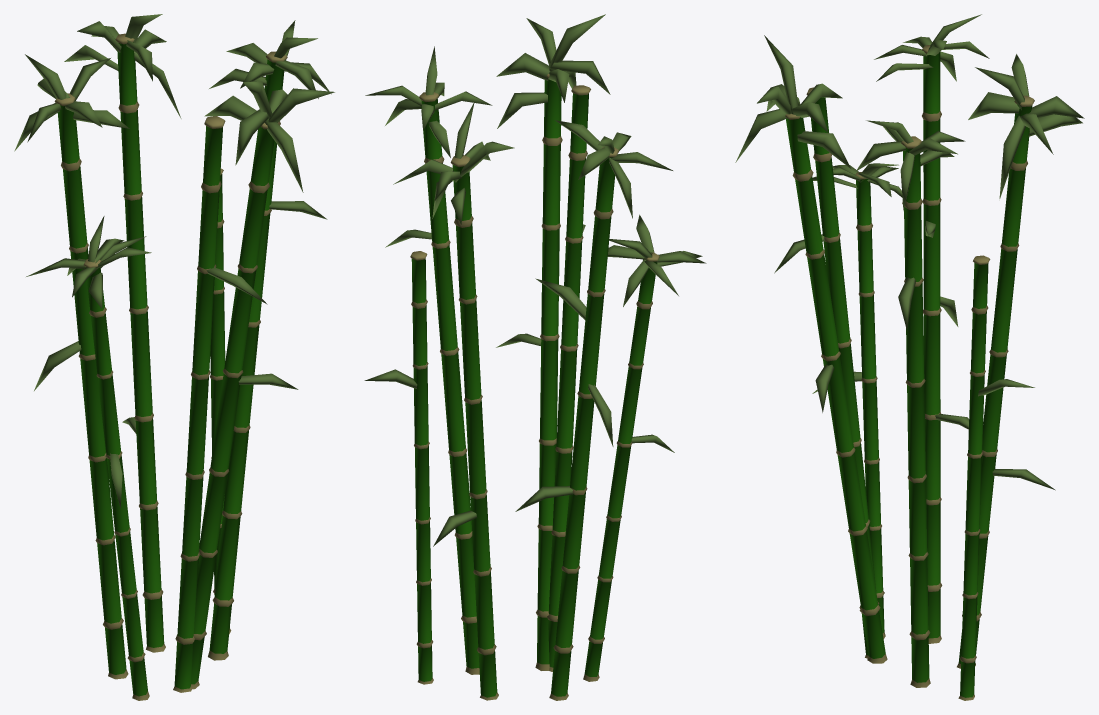
Rendered from Bambo_1.glb.
3 views of the same model, side by side, from view 1: azimuth 30°, elevation 25°; view 2: azimuth 150°, elevation 25°; view 3: azimuth 270°, elevation 25° (orthographic). The views are drawn at different scales.
Parts seen in each view (by area): view 1: Bambo_1; view 2: Bambo_1; view 3: Bambo_1.
Boxes of the visible parts, x1,y1,x2,y2 form: Bambo_1: (14,14,334,700); Bambo_1: (364,14,706,700); Bambo_1: (735,14,1084,700).
Bounding box in the file's own units: 1.29 × 2.58 × 1.31.
